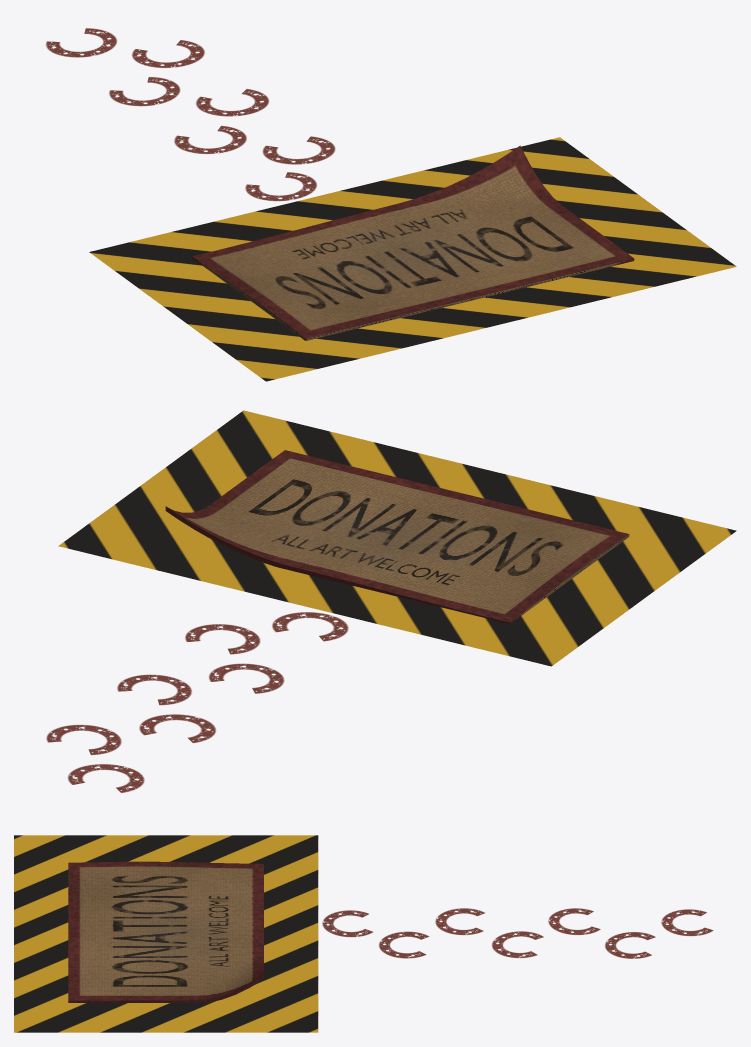
File: drop_zone.glb
3 views of the same model, one above another, from view 1: azimuth 30°, elevation 25°; view 2: azimuth 150°, elevation 25°; view 3: azimuth 270°, elevation 25° (orthographic). The views are drawn at different scales.
Visible parts, largest first — view 1: ZonePaint, DonationMat, Hoofprints; view 2: ZonePaint, DonationMat, Hoofprints; view 3: ZonePaint, DonationMat, Hoofprints.
Part boxes in pixels (x1,y1,x2,y2): ZonePaint: [89, 137, 736, 381]; DonationMat: [192, 145, 634, 340]; Hoofprints: [46, 28, 335, 200]; ZonePaint: [58, 410, 736, 666]; DonationMat: [165, 450, 629, 623]; Hoofprints: [46, 612, 348, 792]; ZonePaint: [14, 835, 318, 1032]; DonationMat: [68, 861, 263, 1002]; Hoofprints: [322, 908, 713, 958].
Bounding box in the file's own units: 4.3 × 0.2937 × 6.65.
Materials: 3 (3 with a texture image).
